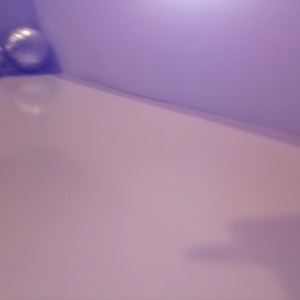alive_ball: (5, 26, 48, 71), (1, 45, 6, 66)
